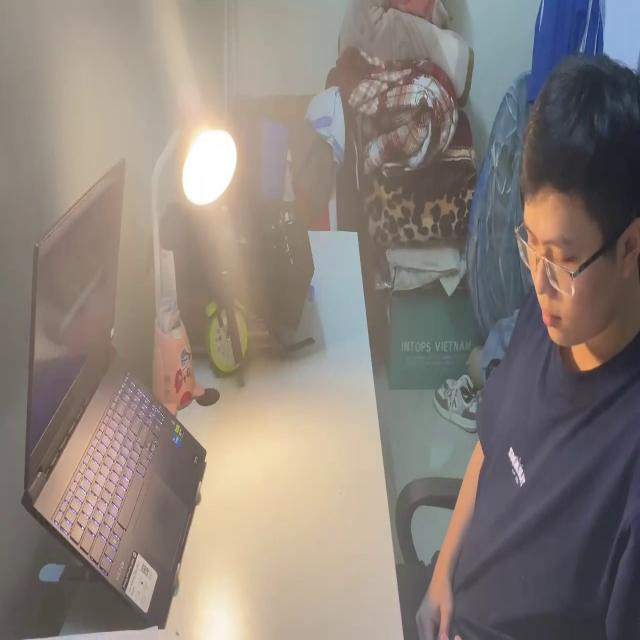laptop: (23, 149, 205, 628)
student: (401, 55, 640, 640)
